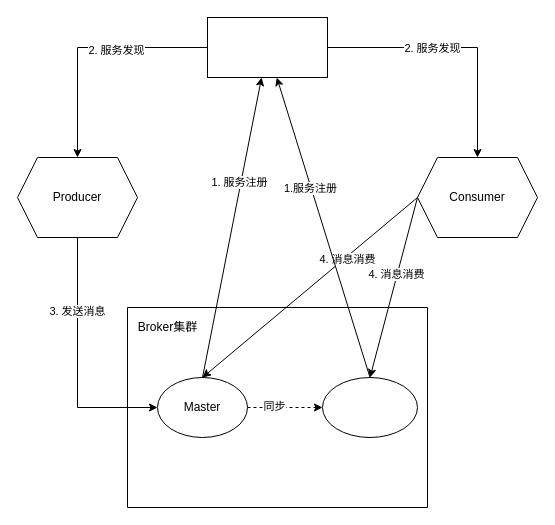
The diagram is 555 pixels wide and 525 high, and some of its shapes have lost their labels. The shapes that lost their labels are listed below. From the top down, each one's box as (x1, y1, x2, y2) in pixels, then its label:
(206, 16, 328, 78): NameServer
(322, 376, 418, 438): Slave
